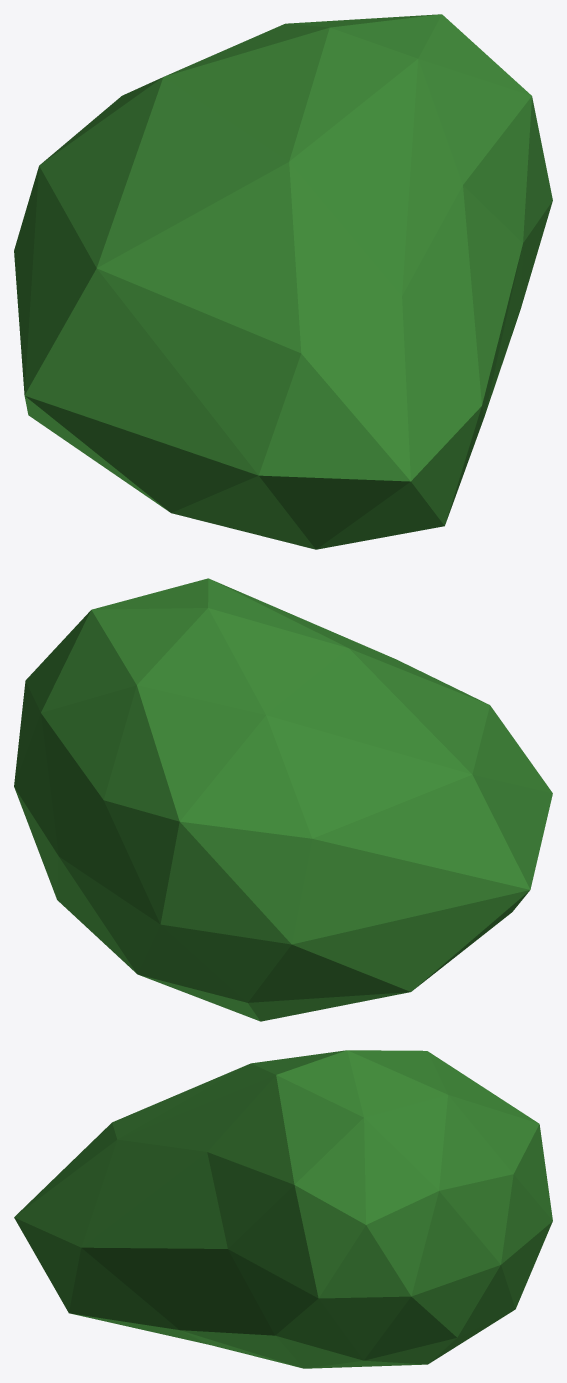
File: Bush02.fbx
3 views of the same model, one above another, from view 1: azimuth 30°, elevation 25°; view 2: azimuth 150°, elevation 25°; view 3: azimuth 270°, elevation 25° (orthographic). The views are drawn at different scales.
Visible parts, largest first — view 1: Bush02; view 2: Bush02; view 3: Bush02.
Boxes of the visible parts, x1,y1,x2,y2 form: Bush02: [14, 14, 552, 549]; Bush02: [14, 578, 552, 1021]; Bush02: [14, 1050, 552, 1368].
Size of the model in its own units: 320 by 228 by 345.
